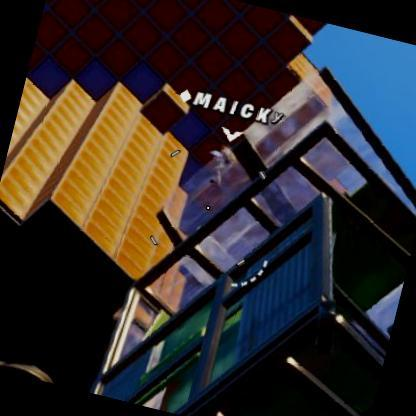person: (209, 137, 238, 182)
